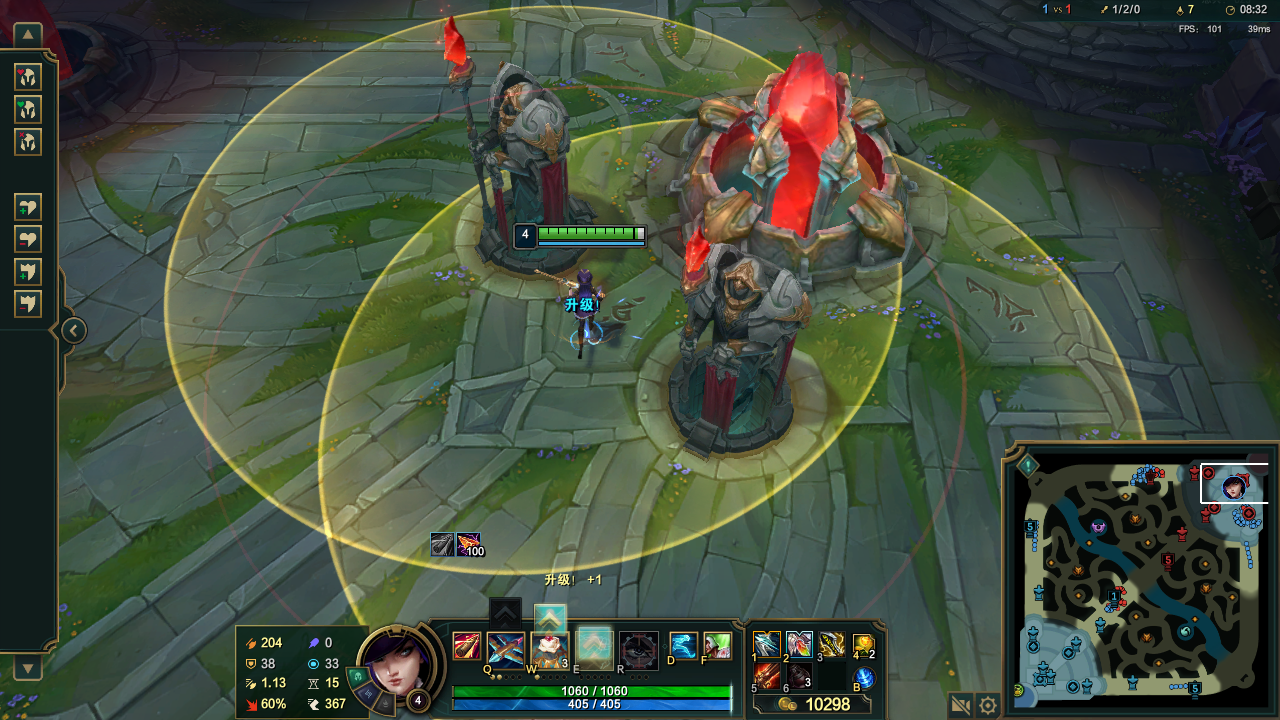DFDSJ: (675, 61, 906, 250)
DFFYT: (656, 238, 813, 453), (457, 51, 603, 274)
